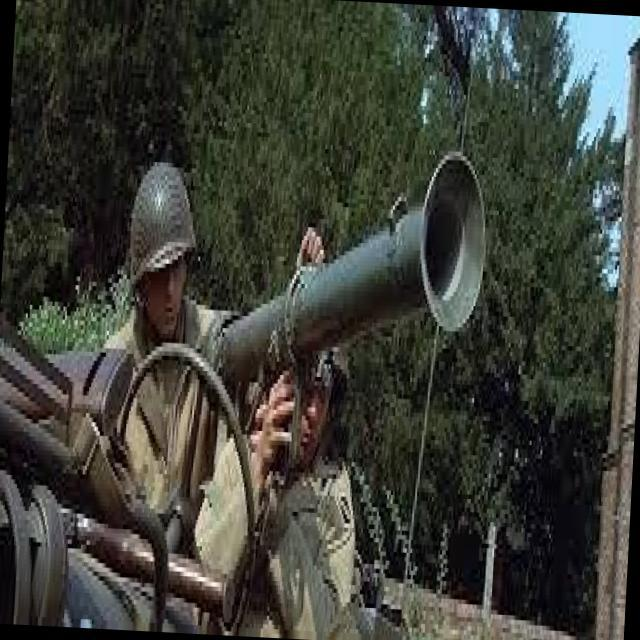rocket: (212, 128, 492, 400)
